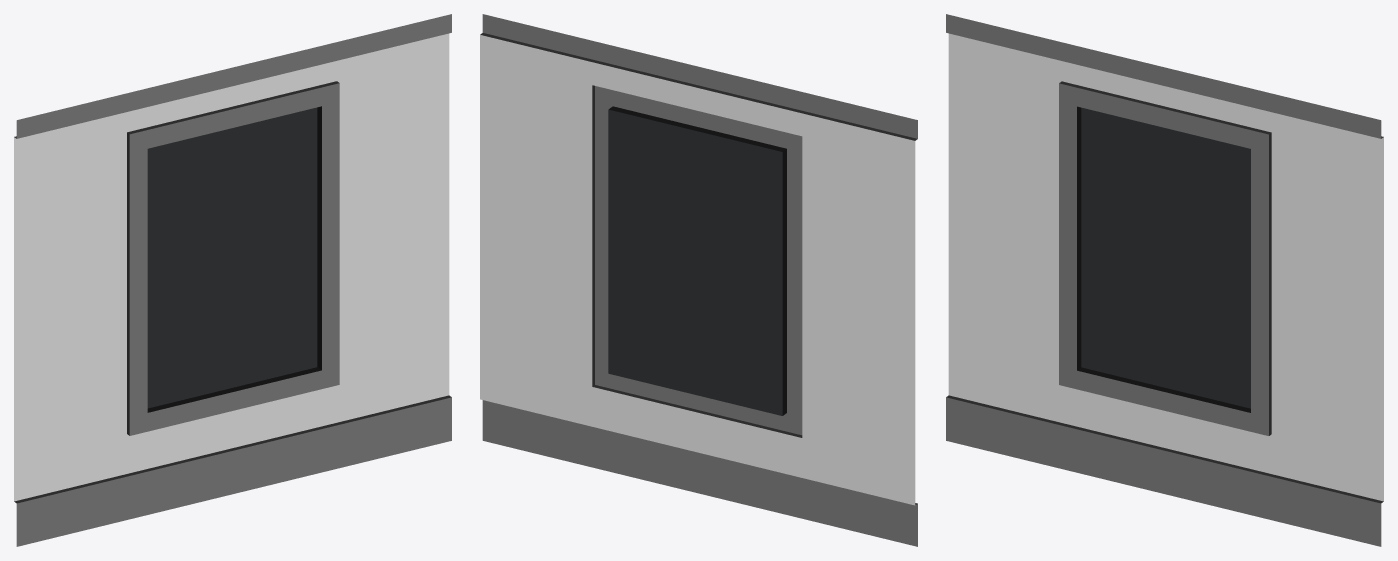
The model's file is WallWindow1.glb.
3 views of the same model, side by side, from view 1: azimuth 30°, elevation 25°; view 2: azimuth 150°, elevation 25°; view 3: azimuth 330°, elevation 25° (orthographic).
Visible parts, largest first — view 1: SI_Env_Wall_Window_01; view 2: SI_Env_Wall_Window_01; view 3: SI_Env_Wall_Window_01.
Part boxes in pixels (x1,y1,x2,y2): SI_Env_Wall_Window_01: (14, 14, 451, 546); SI_Env_Wall_Window_01: (480, 14, 917, 546); SI_Env_Wall_Window_01: (946, 14, 1383, 546).
Bounding box in the file's own units: 0.05 × 0.0469 × 0.000885.
Materials: 1 (1 with a texture image).
